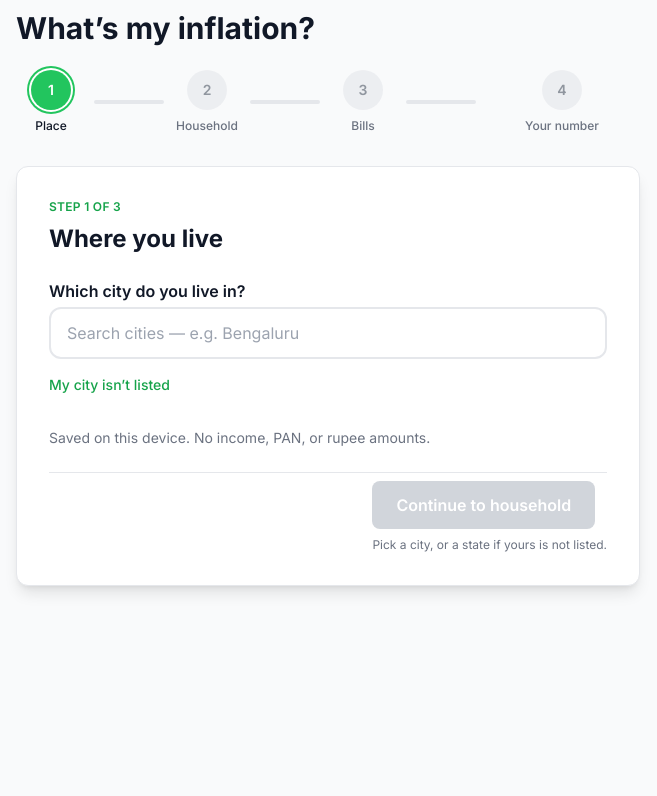
Scenario: personal inflation system integration › PI-05: first missing field shows helper text not a modal
Expected: the text "Pick a city, or a state if yours is not listed." is shown, [372, 537, 607, 553]
In the field labelled "Which city do you live in?": (328,333) [49, 307, 607, 359], type "Bengaluru"
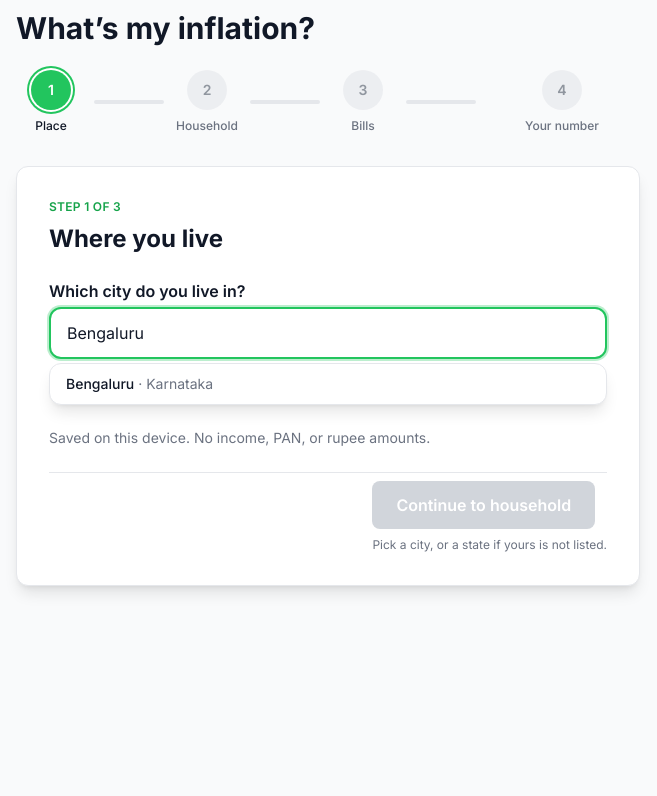
Click the button "Bengaluru · Karnataka": (100,384) [50, 364, 606, 404]
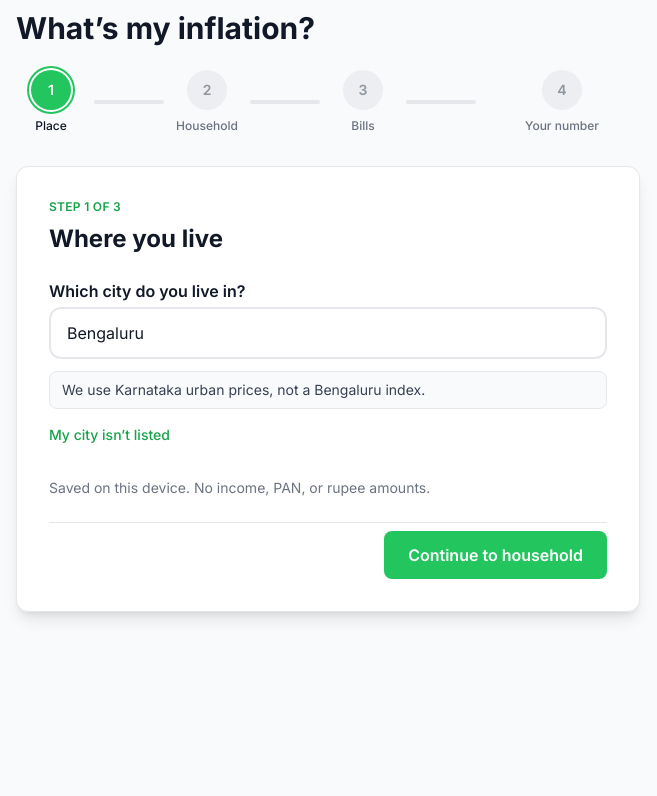
Click the button "Continue to household": (496,555) [384, 531, 607, 579]
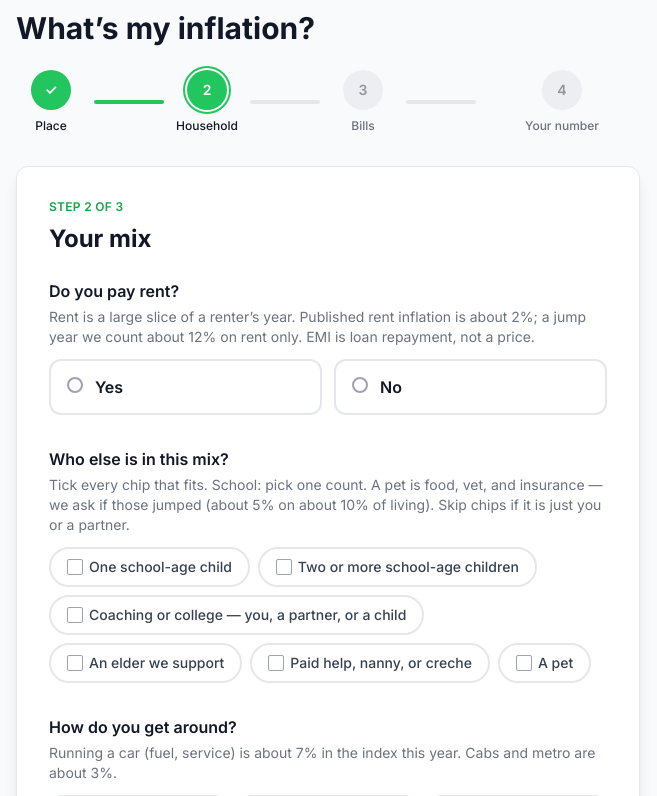
Expected: the text "Do you pay rent?" is shown, [49, 279, 179, 303]
